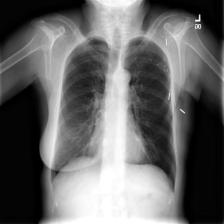normal: (48, 36, 178, 196)
